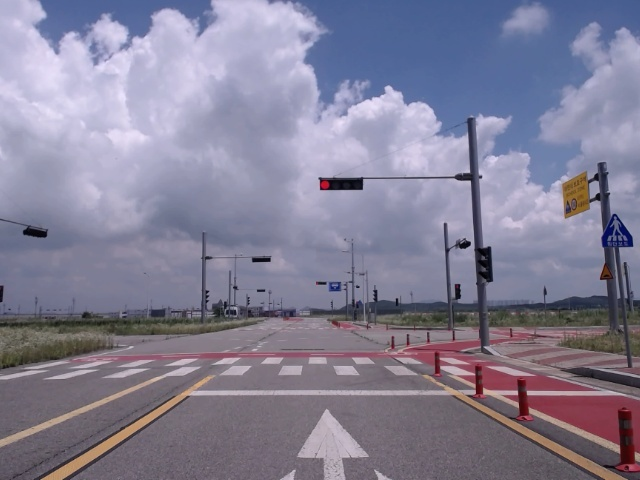red_4: (320, 179, 363, 191)
